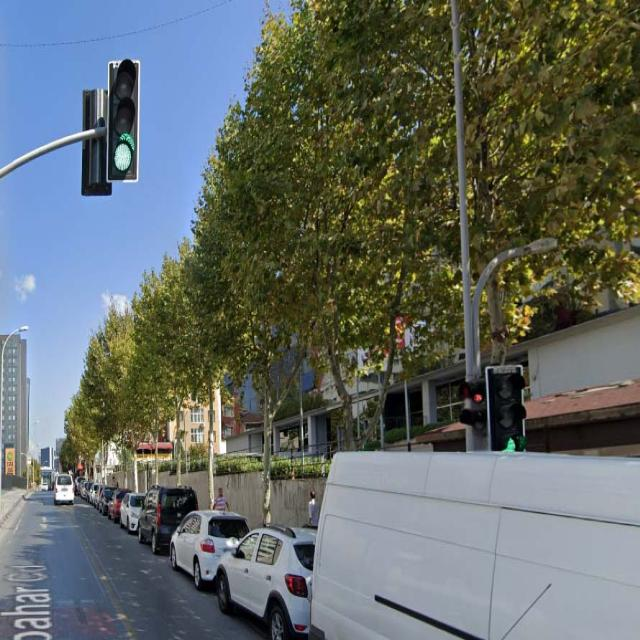yesil: (487, 367, 527, 464), (110, 61, 138, 180)
